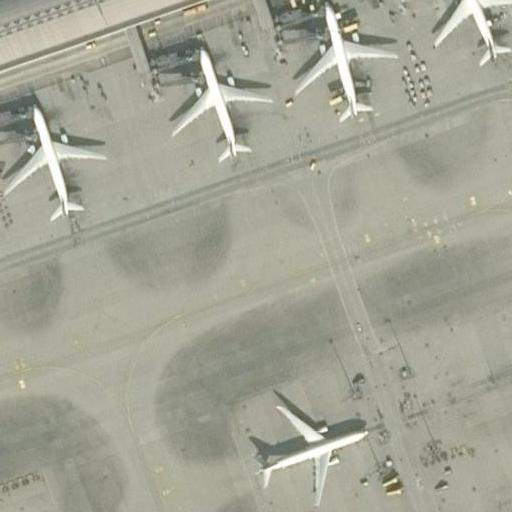Aircraft: (156, 39, 271, 167), (247, 392, 376, 506), (0, 91, 107, 225), (285, 0, 400, 124), (430, 0, 512, 71)
